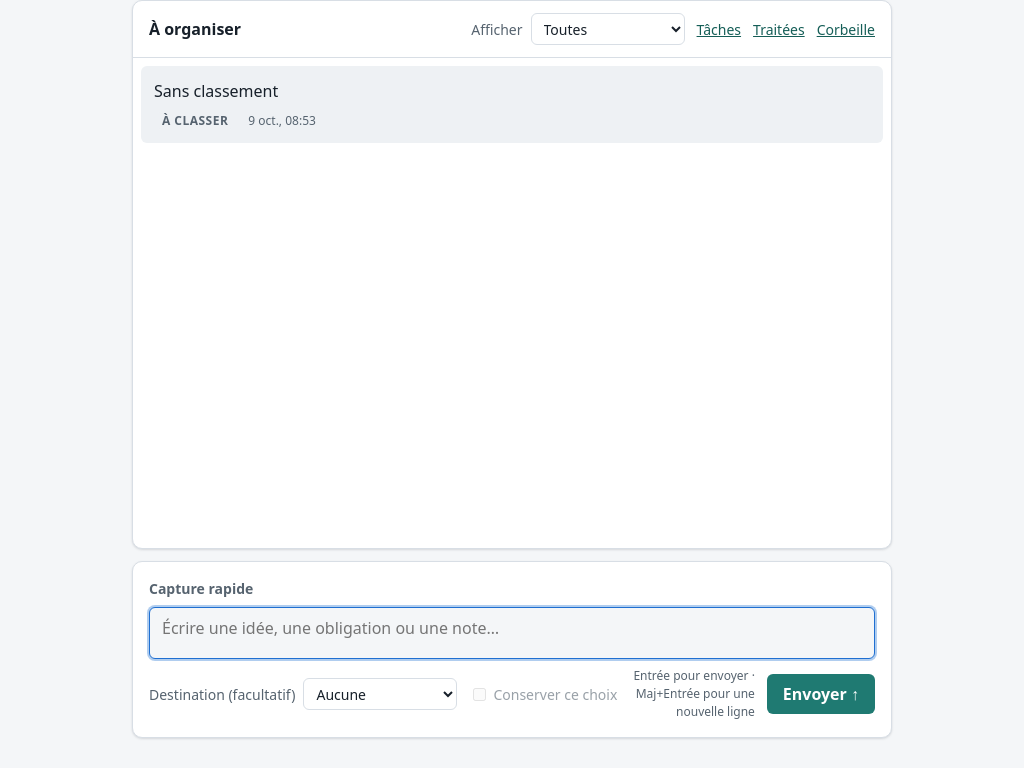
Test case: 003-A — ouverture de la grande modale › la capture sans destination ouvre une modale sans classement
The image size is (1024, 768).
Step 1. Click the button "Sans classement À classer 9 oct., 08:53" → (216, 91), box left=142, top=67, right=882, bottom=142
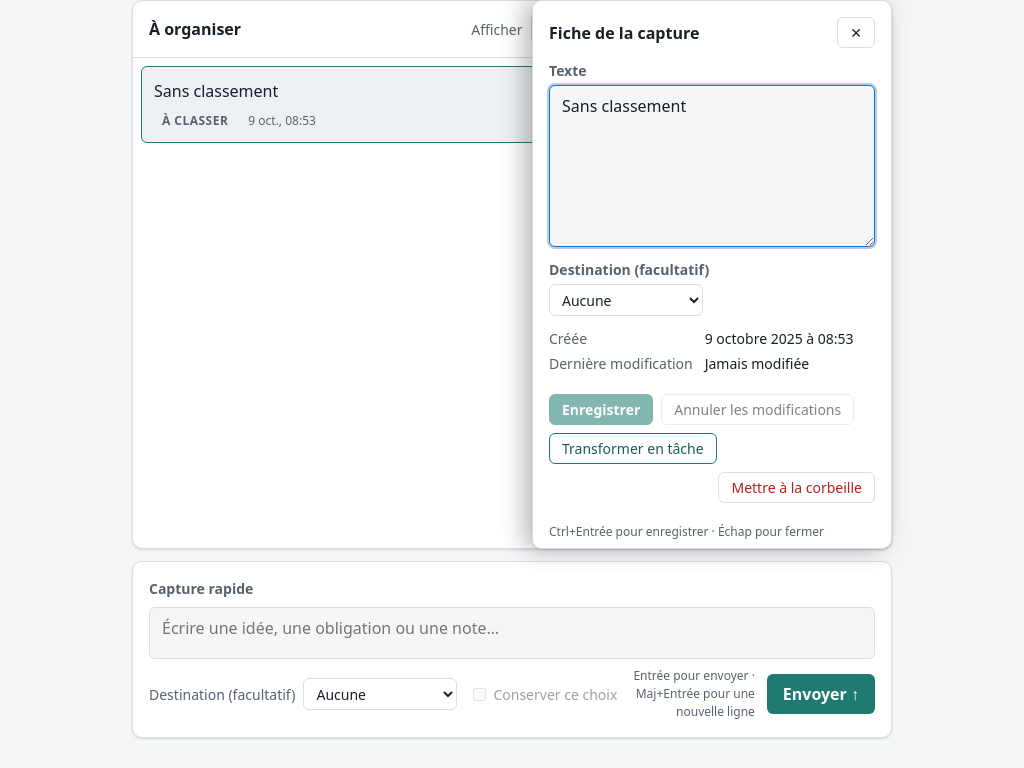
Step 2. Click the button "Transformer en tâche" → (633, 448), box left=549, top=433, right=717, bottom=464
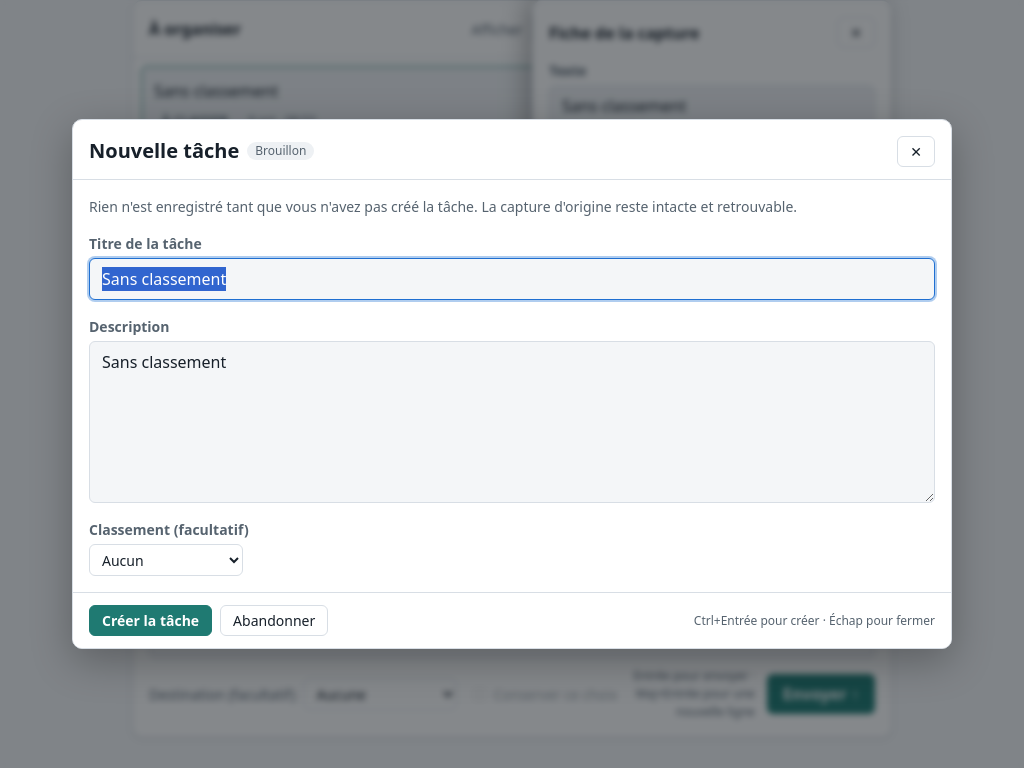
Expected: the dialog "Nouvelle tâche" is shown, left=72, top=119, right=952, bottom=649
Expected: the field labelled "Titre de la tâche" holds "Sans classement", left=89, top=258, right=935, bottom=300
Expected: the dropdown labelled "Classement (facultatif)" shows "Aucun", left=89, top=544, right=243, bottom=576
